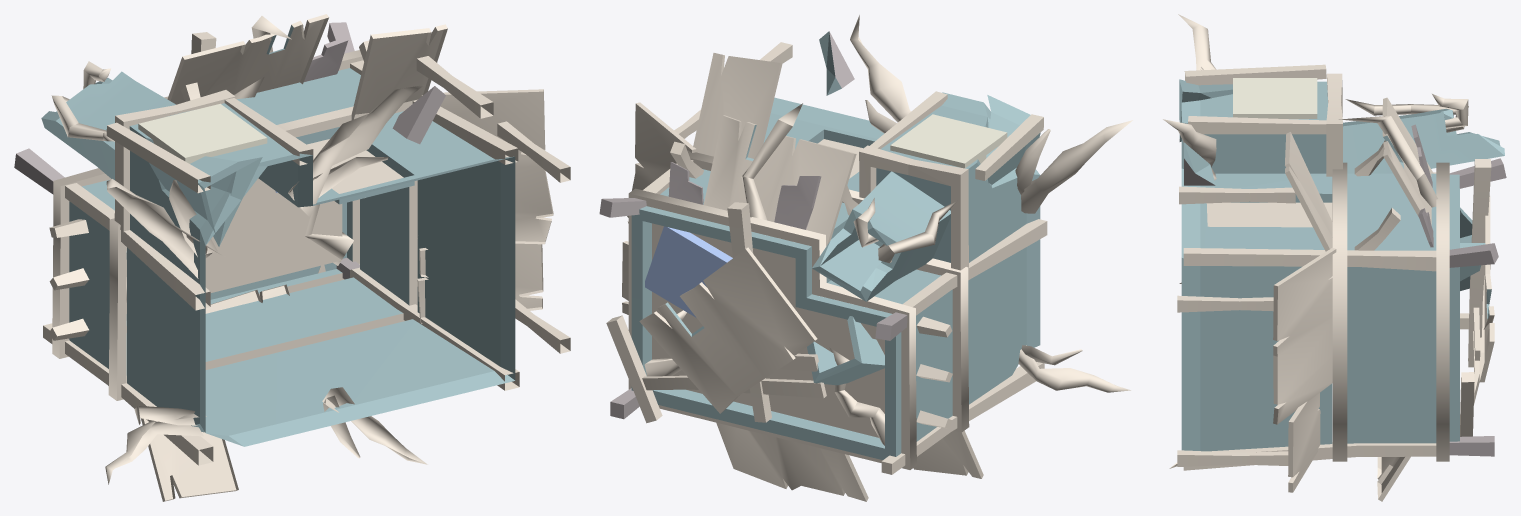
3 views of the same model, side by side, from view 1: azimuth 30°, elevation 25°; view 2: azimuth 150°, elevation 25°; view 3: azimuth 270°, elevation 25° (orthographic). The views are drawn at different scales.
Parts seen in each view (by area): view 1: Object03; view 2: Object03; view 3: Object03.
Boxes of the visible parts, x1=… form: Object03: x1=14, y1=14, x2=570, y2=501; Object03: x1=599, y1=15, x2=1132, y2=501; Object03: x1=1163, y1=14, x2=1506, y2=501.
Size of the model in its own units: 66475 by 53684 by 43712.
